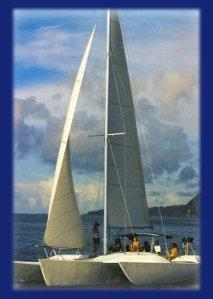Ship: (39, 11, 202, 288)
